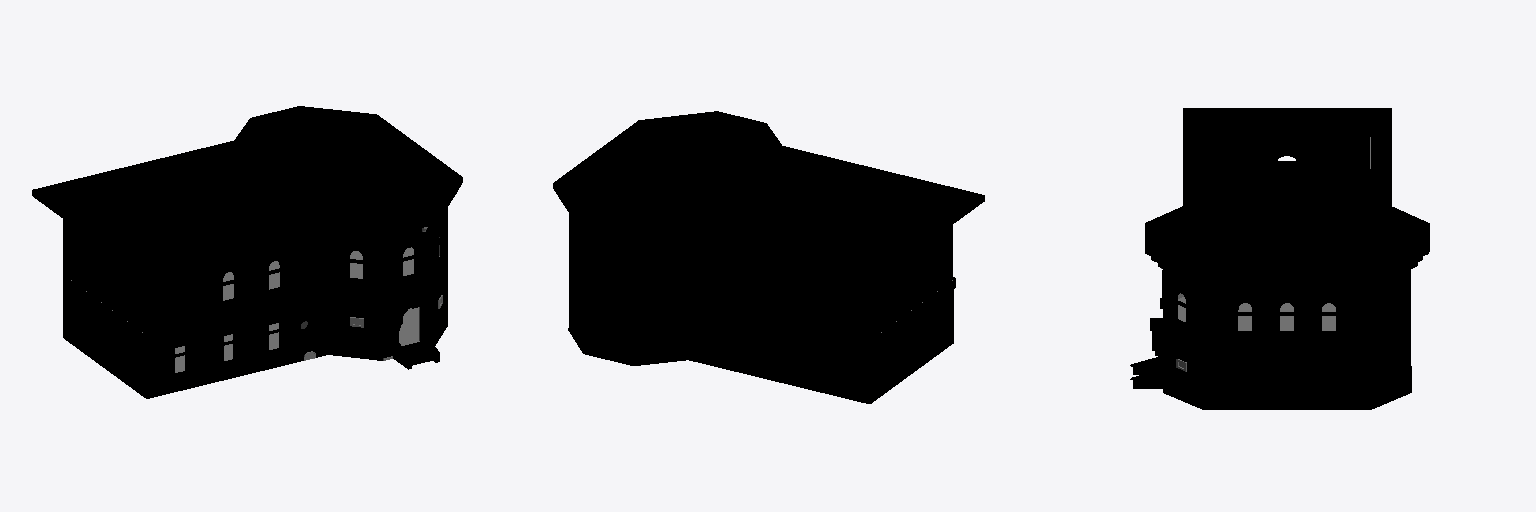
The model's file is fachada.obj.
3 renders of one model, left to right at view 1: azimuth 30°, elevation 25°; view 2: azimuth 150°, elevation 25°; view 3: azimuth 270°, elevation 25°, orthographic.
Parts seen in each view (by area): view 1: pPrism26, pCube117, pCube133, pPrism32, pCube116, pPrism5, pPrism24, pCube385, pCube3, pCube394, pCube273, pCube339 (+7 smaller); view 2: pPrism26, pCube4, pCube117, pPrism5, pPrism32, pCube8, pCube116, pPrism24, pCube3, pCube394, pCube336, pCube273 (+5 smaller); view 3: pPrism5, pPrism32, pPrism26, pCube116, pPrism24, pCube273, pCube117, pCube394, pPrism27, pPrism23.
Boxes of the visible parts, box(x1,y1,x2,y2) form: pPrism26: box(245, 129, 439, 214); pCube117: box(32, 141, 338, 272); pCube133: box(147, 303, 327, 395); pPrism32: box(328, 208, 447, 297); pCube116: box(152, 164, 310, 238); pPrism5: box(301, 262, 447, 357); pPrism24: box(234, 106, 462, 228); pCube385: box(219, 232, 327, 317); pCube3: box(63, 275, 146, 395); pCube394: box(64, 220, 146, 334); pCube273: box(75, 173, 207, 252); pCube339: box(147, 258, 218, 334); pPrism26: box(577, 134, 771, 220); pCube4: box(689, 297, 869, 401); pCube117: box(678, 146, 984, 277); pPrism5: box(569, 268, 688, 362); pPrism32: box(569, 214, 688, 302); pCube8: box(689, 237, 797, 322); pCube116: box(705, 169, 864, 243); pPrism24: box(553, 111, 781, 233); pCube3: box(869, 280, 953, 400); pCube394: box(870, 225, 952, 340); pCube336: box(798, 264, 869, 340); pCube273: box(809, 178, 941, 257); pPrism5: box(1163, 330, 1410, 406); pPrism32: box(1163, 269, 1410, 346); pPrism26: box(1164, 222, 1410, 263); pCube116: box(1204, 169, 1370, 221); pPrism24: box(1145, 206, 1429, 277); pCube273: box(1204, 112, 1369, 168); pCube117: box(1183, 108, 1391, 205); pCube394: box(1216, 140, 1357, 162); pPrism27: box(1151, 212, 1422, 281); pPrism23: box(1158, 219, 1417, 285).
Bounding box in the file's own units: 27.85 × 12.5 × 21.48.